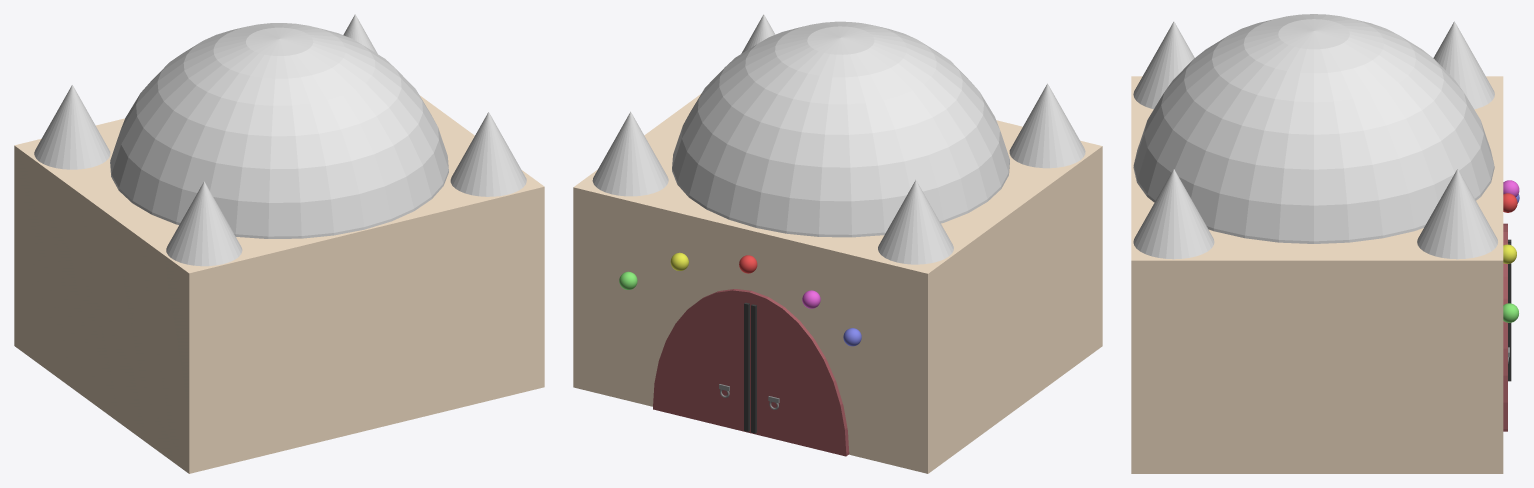
Rendered from hous30.fbx.
3 renders of one model, left to right at view 1: azimuth 30°, elevation 25°; view 2: azimuth 150°, elevation 25°; view 3: azimuth 270°, elevation 25°, orthographic. The views are drawn at different scales.
Parts seen in each view (by area): view 1: 큐브.008, 구체.017, 원뿔, 원뿔.003, 원뿔.004; view 2: 큐브.008, 구체.017, 실린더.006, 원뿔.003, 원뿔.005, 원뿔, 큐브.007; view 3: 큐브.008, 구체.017, 원뿔.004, 원뿔.005, 원뿔, 원뿔.003, 실린더.006.
Boxes of the visible parts, <box> form: 큐브.008: <box>14,95,544,473</box>; 구체.017: <box>110,23,448,238</box>; 원뿔: <box>34,85,110,169</box>; 원뿔.003: <box>166,181,242,266</box>; 원뿔.004: <box>450,112,526,196</box>; 큐브.008: <box>573,94,1102,473</box>; 구체.017: <box>672,21,1009,237</box>; 실린더.006: <box>653,289,849,456</box>; 원뿔.003: <box>1009,83,1085,168</box>; 원뿔.005: <box>592,111,668,196</box>; 원뿔: <box>878,180,953,264</box>; 큐브.007: <box>744,302,756,433</box>; 큐브.008: <box>1131,76,1503,473</box>; 구체.017: <box>1133,14,1494,243</box>; 원뿔.004: <box>1133,169,1214,259</box>; 원뿔.005: <box>1417,169,1497,259</box>; 원뿔: <box>1433,21,1494,109</box>; 원뿔.003: <box>1133,21,1194,109</box>; 실린더.006: <box>1503,223,1507,431</box>.
Bounding box in the file's own units: 16893 × 14965 × 15029.
